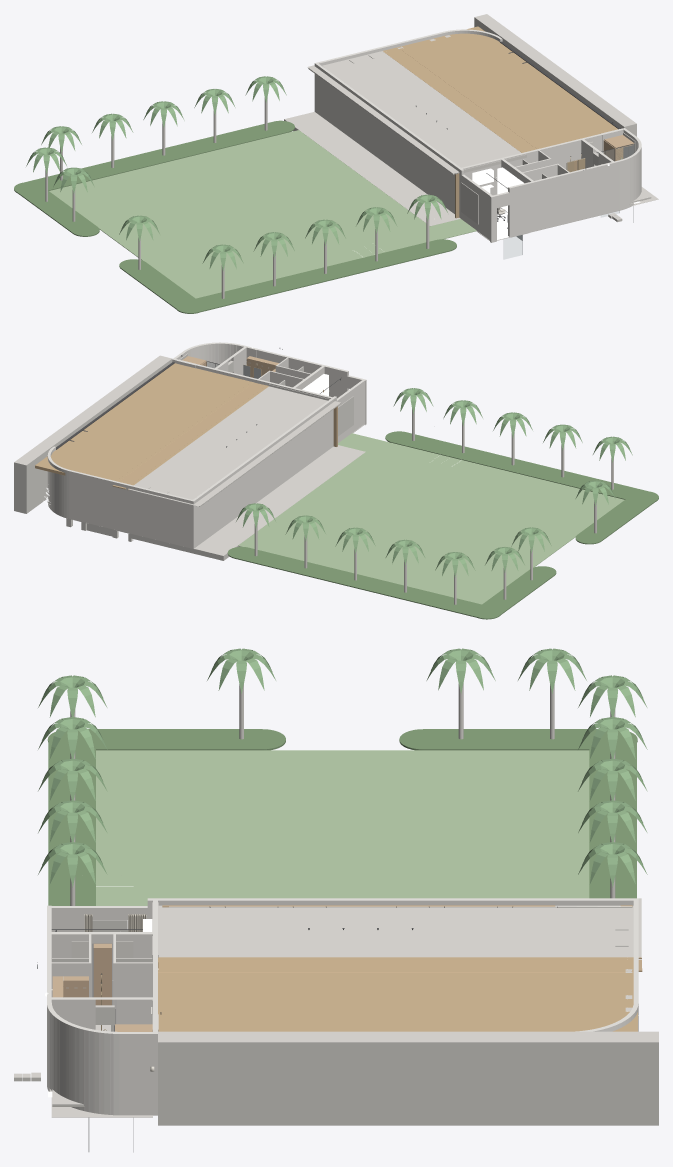
Rendered from 2-gym.glb.
3 views of the same model, one above another, from view 1: azimuth 30°, elevation 25°; view 2: azimuth 150°, elevation 25°; view 3: azimuth 270°, elevation 25° (orthographic). The views are drawn at different scales.
Visible parts, largest first — view 1: GYM_Grass_field, GYM_Wall_01_CUT, Ceiling_Beam_3001, Box071, GYM_Planting_1, GYM_Planting_2, Box021, Box069, Ceiling_Beam_2001, Box006, Box004, Box005; view 2: GYM_Grass_field, GYM_Wall_01_CUT, Ceiling_Beam_3001, Box071, GYM_Planting_2, GYM_Planting_1, Box021, Box069, Ceiling_Beam_2001, Box006, Box004; view 3: GYM_Grass_field, Box069, Ceiling_Beam_3001, Box071, GYM_Wall_01_CUT, GYM_Planting_1, GYM_Planting_2, Ceiling_Beam_2001, Box006, Box015, Back_Wall_Base001.
Boxes of the visible parts, x1,y1,x2,y2 form: GYM_Grass_field: [49, 130, 476, 298]; GYM_Wall_01_CUT: [314, 29, 641, 237]; Ceiling_Beam_3001: [398, 26, 617, 149]; Box071: [307, 51, 520, 173]; GYM_Planting_1: [119, 239, 456, 313]; GYM_Planting_2: [14, 120, 294, 236]; Box021: [284, 112, 501, 226]; Box069: [474, 14, 636, 136]; Ceiling_Beam_2001: [383, 47, 536, 152]; Box006: [461, 174, 492, 239]; Box004: [461, 182, 478, 224]; Box005: [490, 192, 509, 242]; GYM_Grass_field: [238, 433, 624, 604]; GYM_Wall_01_CUT: [47, 342, 348, 548]; Ceiling_Beam_3001: [35, 363, 253, 481]; Box071: [128, 386, 340, 506]; GYM_Planting_2: [227, 546, 556, 619]; GYM_Planting_1: [385, 431, 658, 544]; Box021: [128, 445, 365, 560]; Box069: [14, 355, 172, 513]; Ceiling_Beam_2001: [119, 382, 268, 485]; Box006: [337, 380, 364, 442]; Box004: [338, 396, 353, 436]; GYM_Grass_field: [96, 750, 589, 905]; Box069: [158, 1031, 658, 1125]; Ceiling_Beam_3001: [158, 970, 637, 1031]; Box071: [158, 898, 641, 957]; GYM_Wall_01_CUT: [47, 898, 638, 1115]; GYM_Planting_1: [47, 729, 285, 905]; GYM_Planting_2: [399, 729, 637, 898]; Ceiling_Beam_2001: [158, 957, 633, 969]; Box006: [51, 906, 147, 931]; Box015: [93, 943, 111, 1005]; Back_Wall_Base001: [162, 905, 555, 907].
Size of the model in its own units: 38.31 by 6.32 by 26.16.
